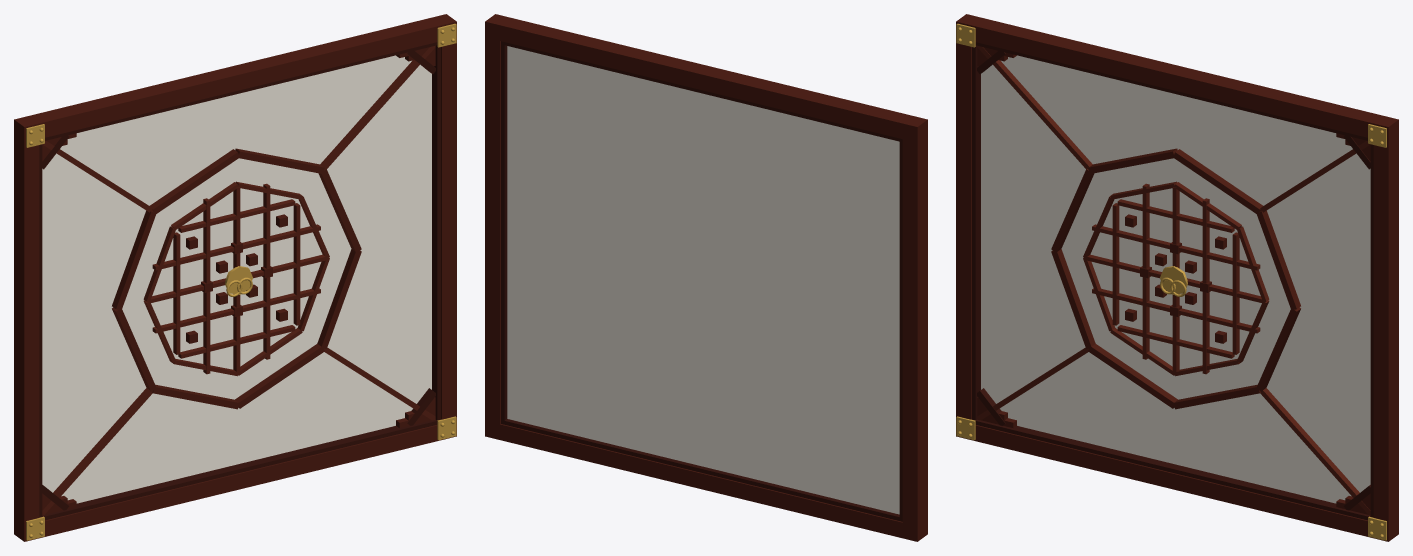
File: oriental-lattice-window.glb
3 views of the same model, side by side, from view 1: azimuth 30°, elevation 25°; view 2: azimuth 150°, elevation 25°; view 3: azimuth 330°, elevation 25° (orthographic).
Visible parts, largest first — view 1: OrientalLatticeWindow; view 2: OrientalLatticeWindow; view 3: OrientalLatticeWindow.
Boxes of the visible parts, x1,y1,x2,y2 form: OrientalLatticeWindow: (14,14,456,541); OrientalLatticeWindow: (485,14,927,541); OrientalLatticeWindow: (956,14,1398,541).
Size of the model in its own units: 2.88 by 2.64 by 0.147.
